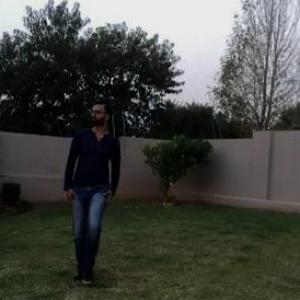follow: (59, 93, 125, 284)
